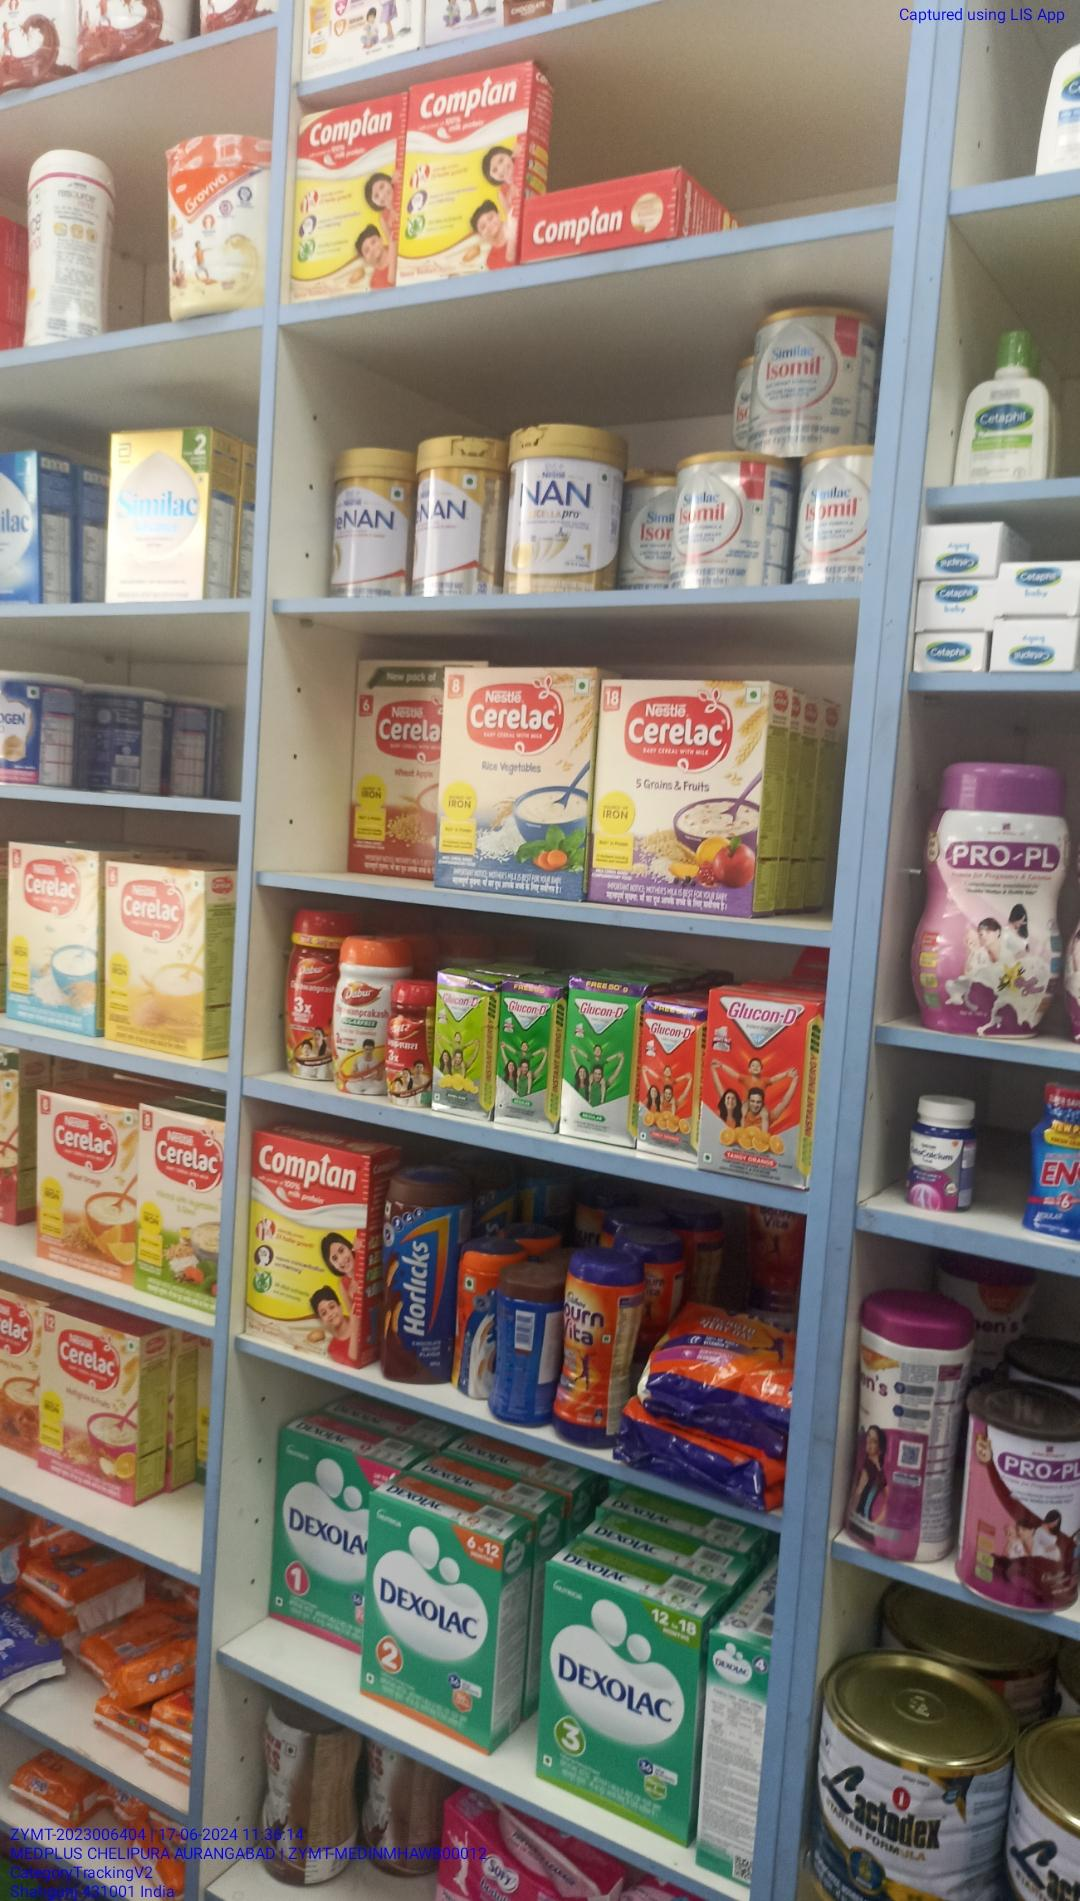BOURN_VITA_500_G_JAR: (564, 1240, 623, 1447)
COMPLAN_KESAR_BADAM_500_GMS_PACK: (249, 1135, 360, 1368), (294, 94, 405, 290), (411, 87, 516, 272)
